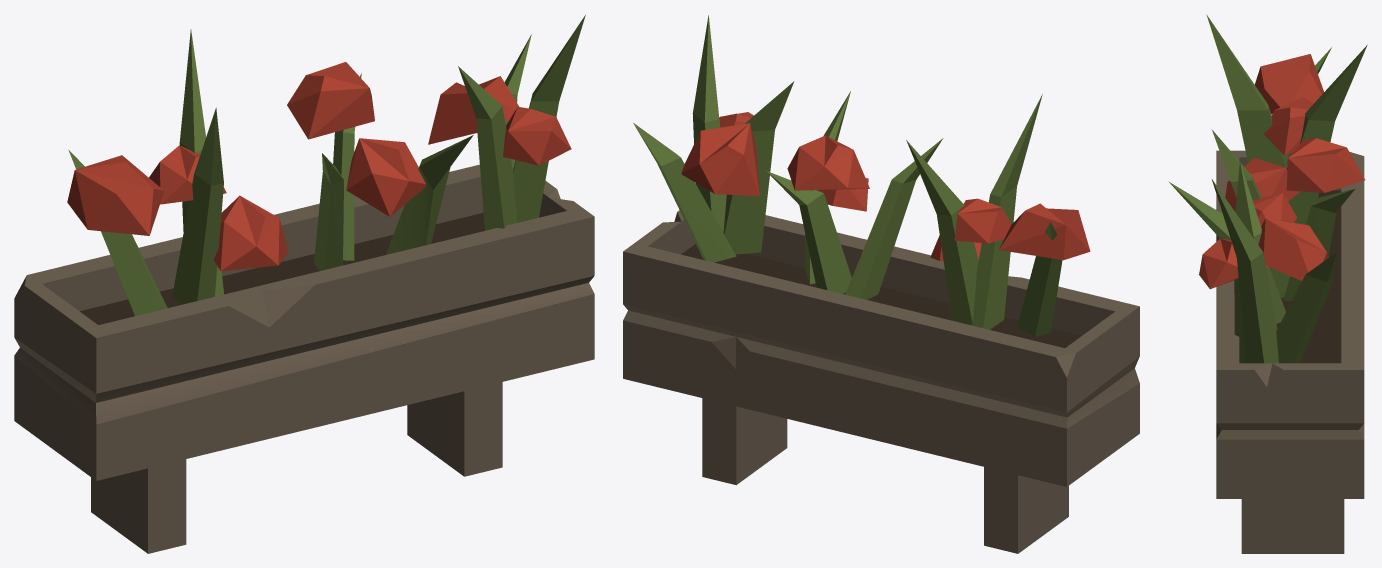
The model's file is Objet2_07.glb.
The picture shows the model from 3 angles, left to right: view 1: azimuth 30°, elevation 25°; view 2: azimuth 150°, elevation 25°; view 3: azimuth 270°, elevation 25°; orthographic projection. The views are drawn at different scales.
Visible parts, largest first — view 1: SM_Prop_PlanterWindow_02; view 2: SM_Prop_PlanterWindow_02; view 3: SM_Prop_PlanterWindow_02.
Boxes of the visible parts, x1,y1,x2,y2 form: SM_Prop_PlanterWindow_02: (14, 15, 594, 553); SM_Prop_PlanterWindow_02: (623, 15, 1139, 553); SM_Prop_PlanterWindow_02: (1168, 14, 1367, 553).
Bounding box in the file's own units: 0.8697 × 0.7433 × 0.3319.
Materials: 1 (1 with a texture image).
